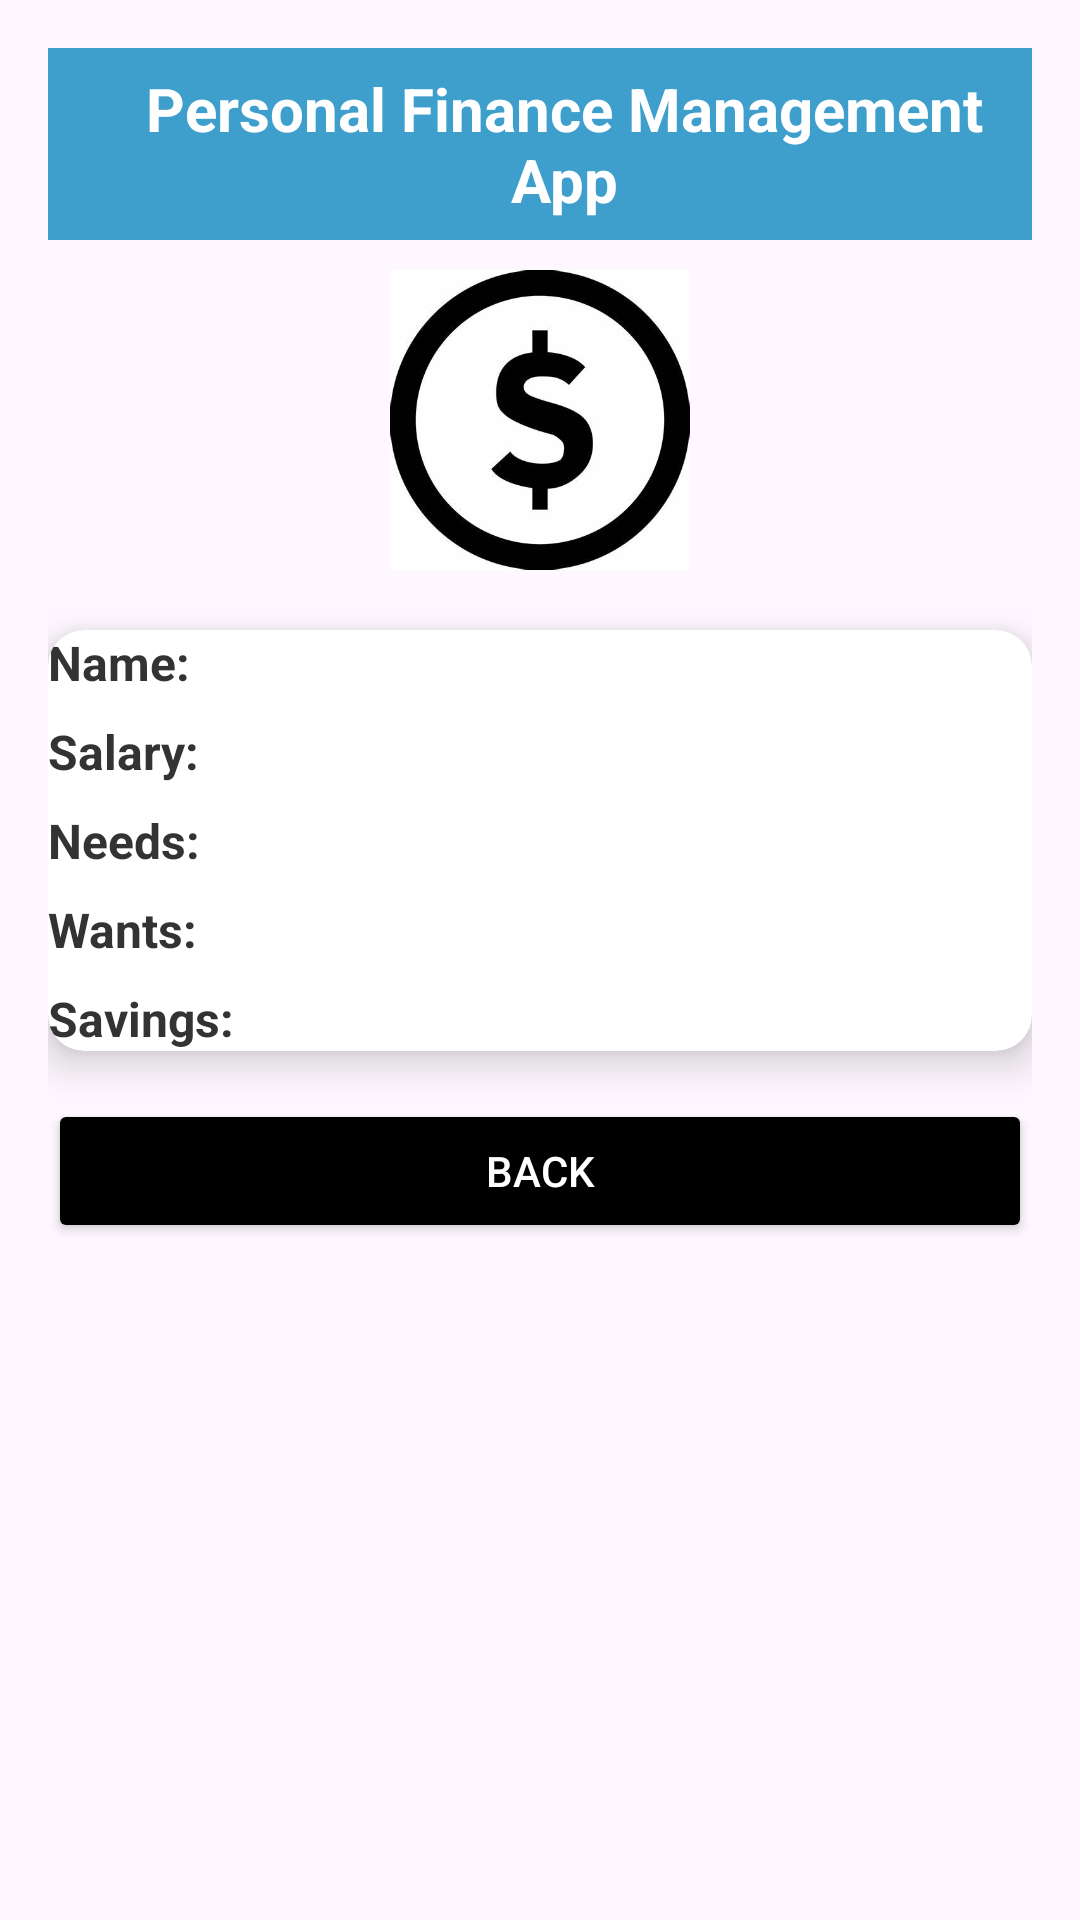

Where to tap for icons on this 1080×1920 app screen, as (x=x, y=y):
dollar: (x=540, y=420)
